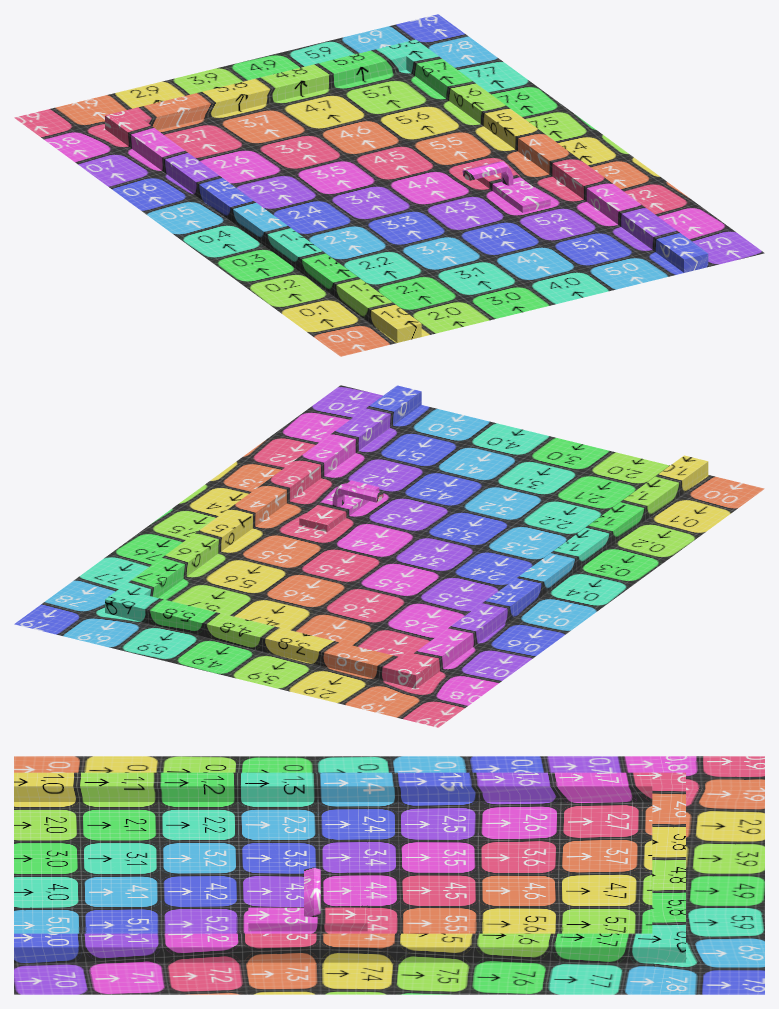
Rendered from TestDoor.fbx.
3 views of the same model, one above another, from view 1: azimuth 30°, elevation 25°; view 2: azimuth 150°, elevation 25°; view 3: azimuth 270°, elevation 25° (orthographic). The views are drawn at different scales.
Visible parts, largest first — view 1: Door; view 2: Door; view 3: Door.
Boxes of the visible parts, x1=… form: Door: x1=14, y1=14, x2=764, y2=356; Door: x1=14, y1=385, x2=764, y2=727; Door: x1=14, y1=756, x2=764, y2=994.
Size of the model in its own units: 1.5 by 0.0954 by 2.
